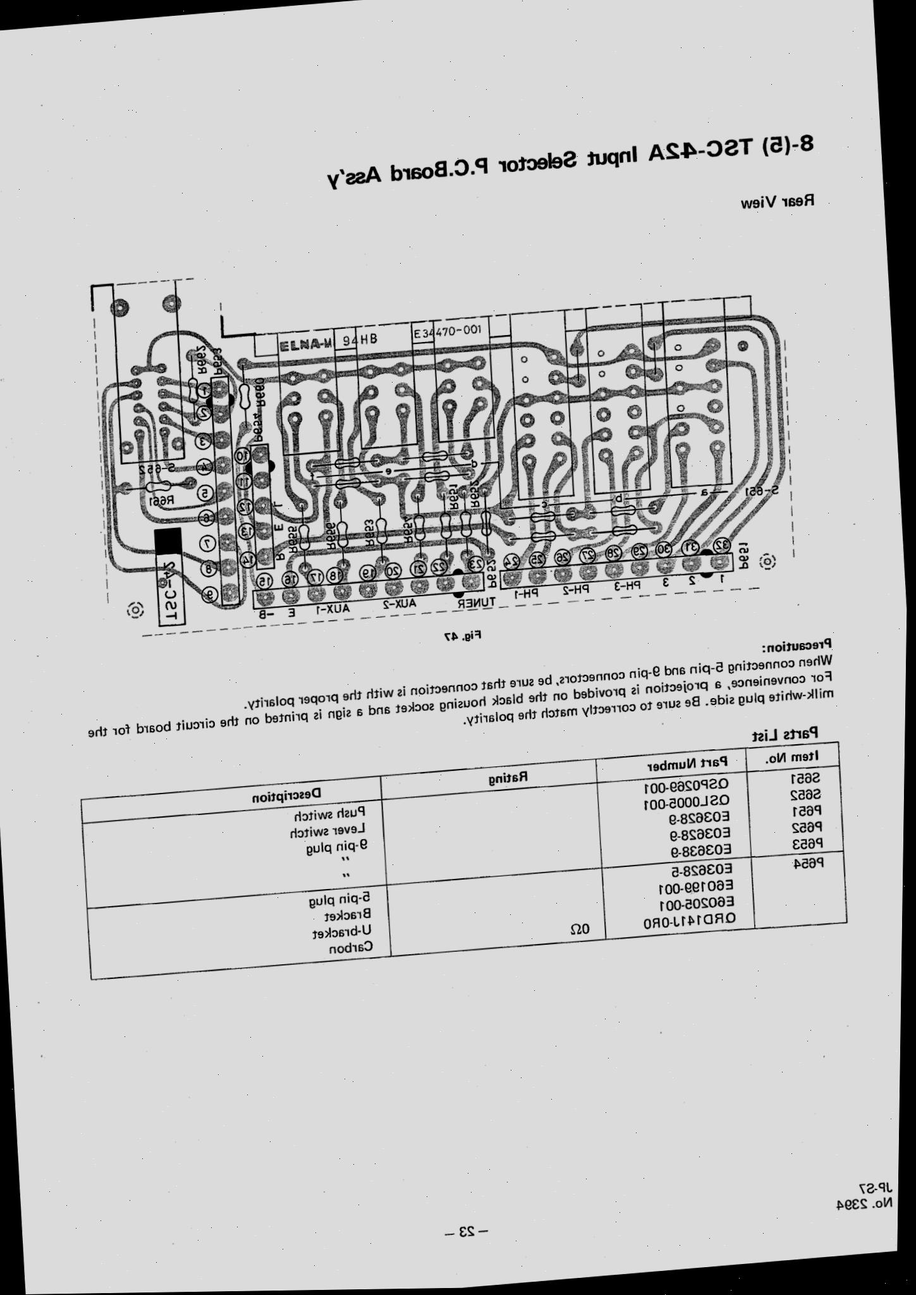compo_name: (404, 314, 488, 342), (332, 321, 392, 353), (157, 553, 182, 626), (391, 513, 419, 552), (208, 339, 235, 378), (244, 370, 270, 410), (307, 598, 352, 620), (558, 577, 599, 601), (378, 591, 417, 616), (142, 488, 184, 511), (320, 514, 344, 554), (134, 458, 178, 479), (243, 411, 267, 446), (282, 521, 305, 557), (462, 477, 486, 511), (360, 515, 382, 552), (438, 478, 462, 511), (457, 593, 502, 610), (191, 339, 210, 379), (511, 585, 547, 605), (609, 574, 644, 594), (659, 571, 674, 597), (257, 603, 275, 623), (285, 604, 300, 622), (684, 576, 700, 590), (719, 569, 733, 584)
